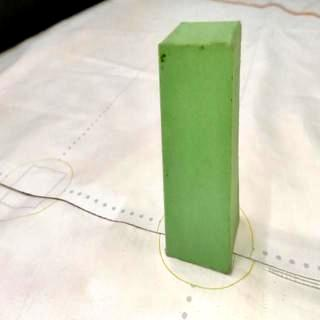greenbox: (158, 20, 242, 276)
